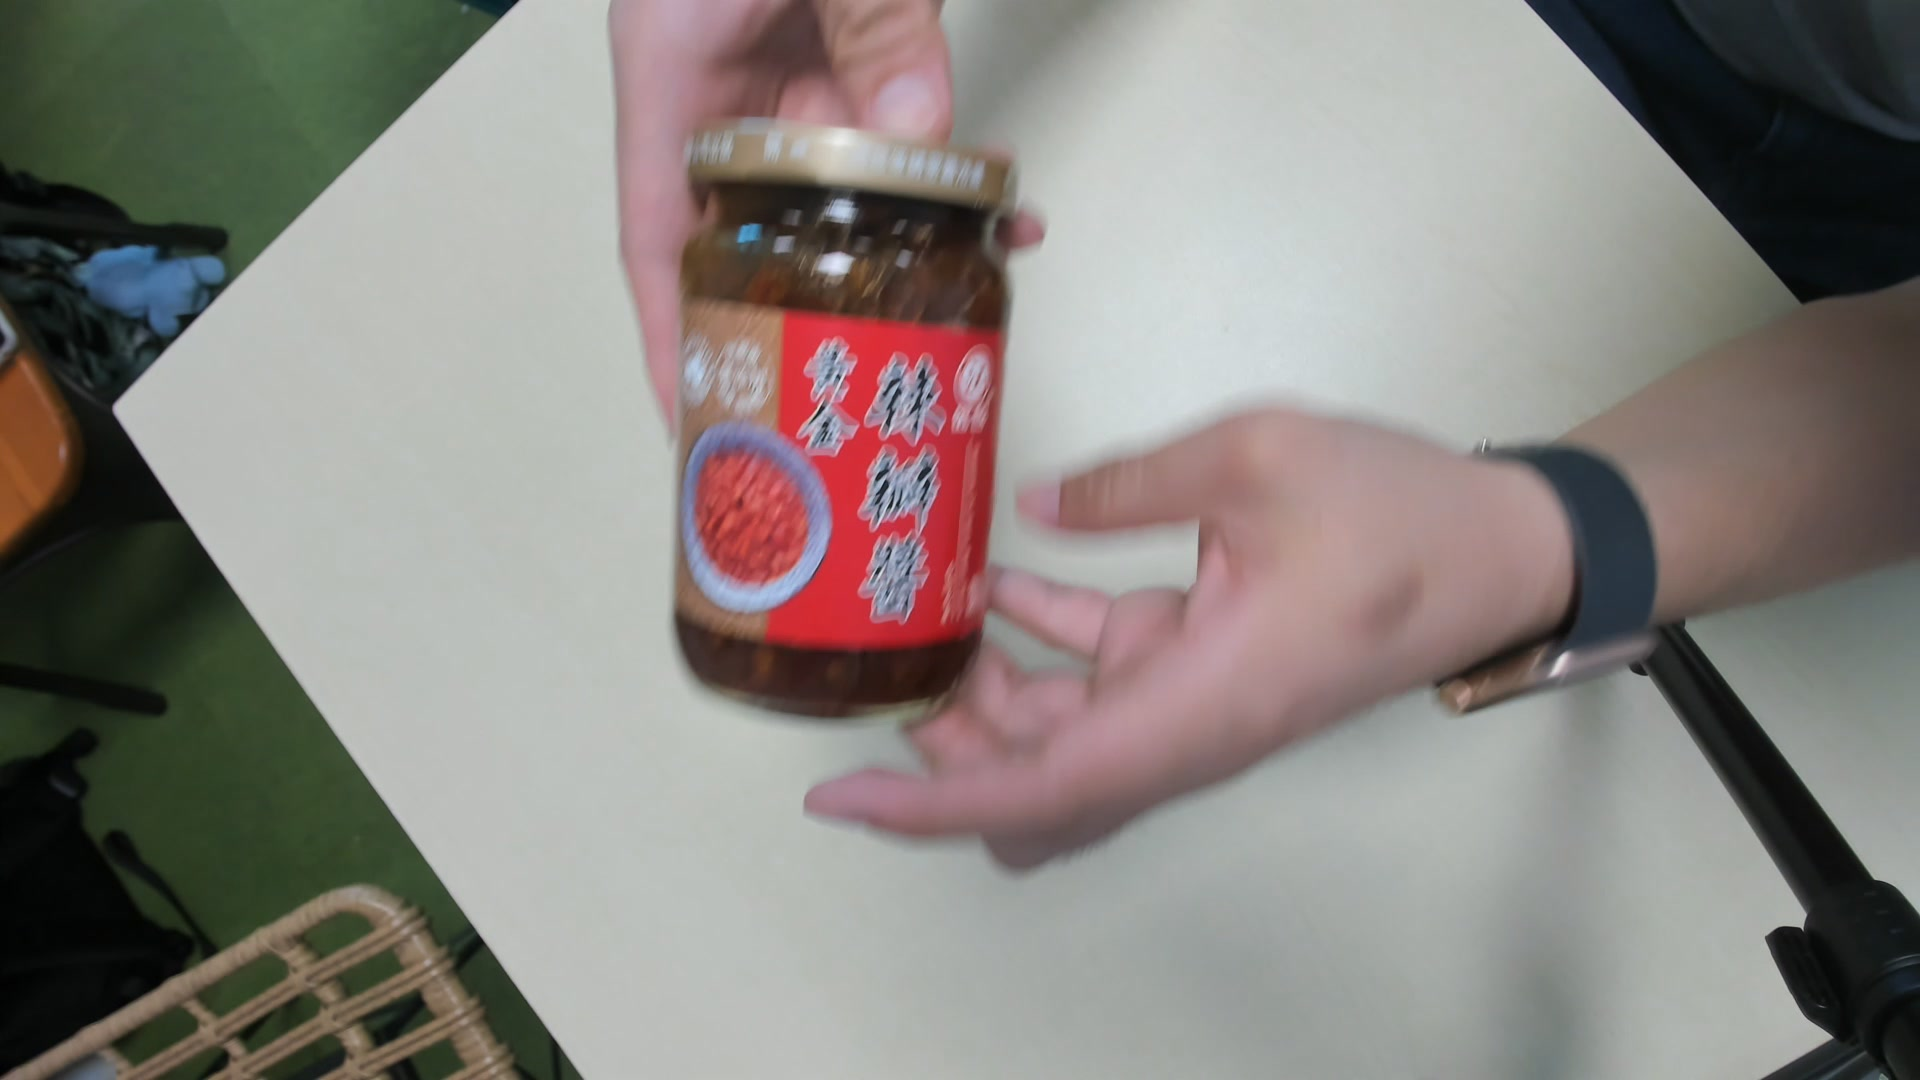OtherSauceDressing_300-399g_NonHalal_NonHealthy: (671, 112, 1031, 728)
